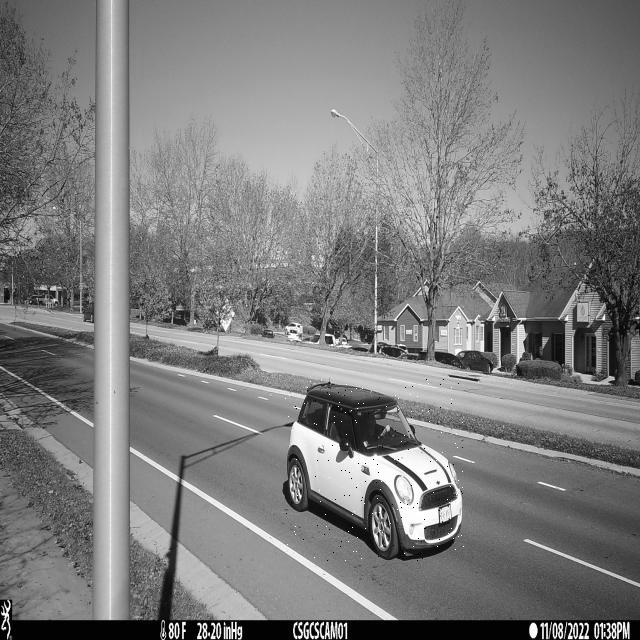Hatchback: (285, 379, 464, 561)
